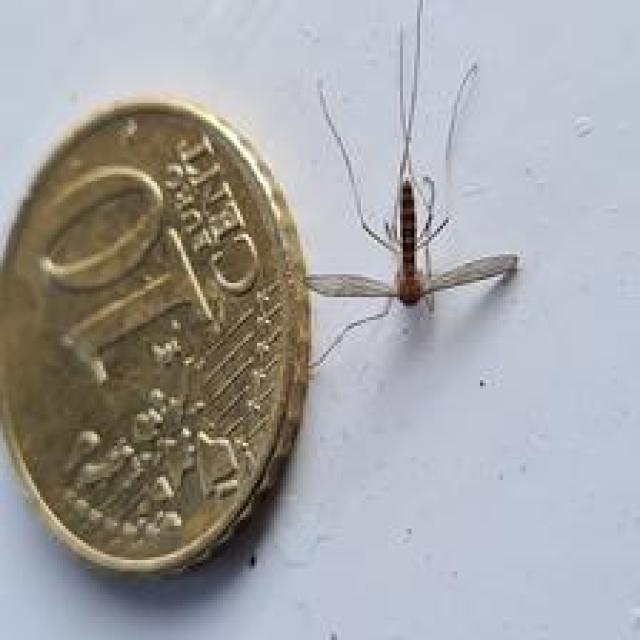Culex: (303, 0, 520, 374)
